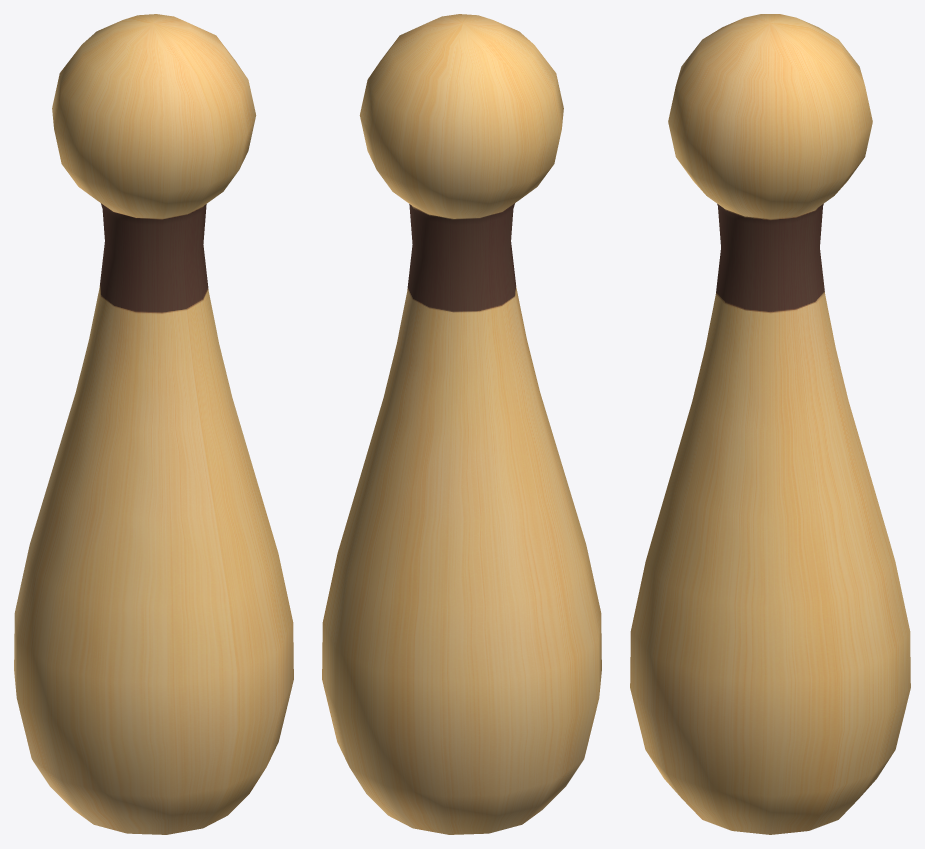
File: Skittles2.fbx
3 renders of one model, left to right at view 1: azimuth 30°, elevation 25°; view 2: azimuth 150°, elevation 25°; view 3: azimuth 270°, elevation 25°, orthographic.
Visible parts, largest first — view 1: Skittles_GEO; view 2: Skittles_GEO; view 3: Skittles_GEO.
Boxes of the visible parts, <box> form: Skittles_GEO: <box>14,14,293,834</box>; Skittles_GEO: <box>322,14,601,834</box>; Skittles_GEO: <box>630,14,910,834</box>.
Size of the model in its own units: 7.48 by 23.04 by 7.54.
